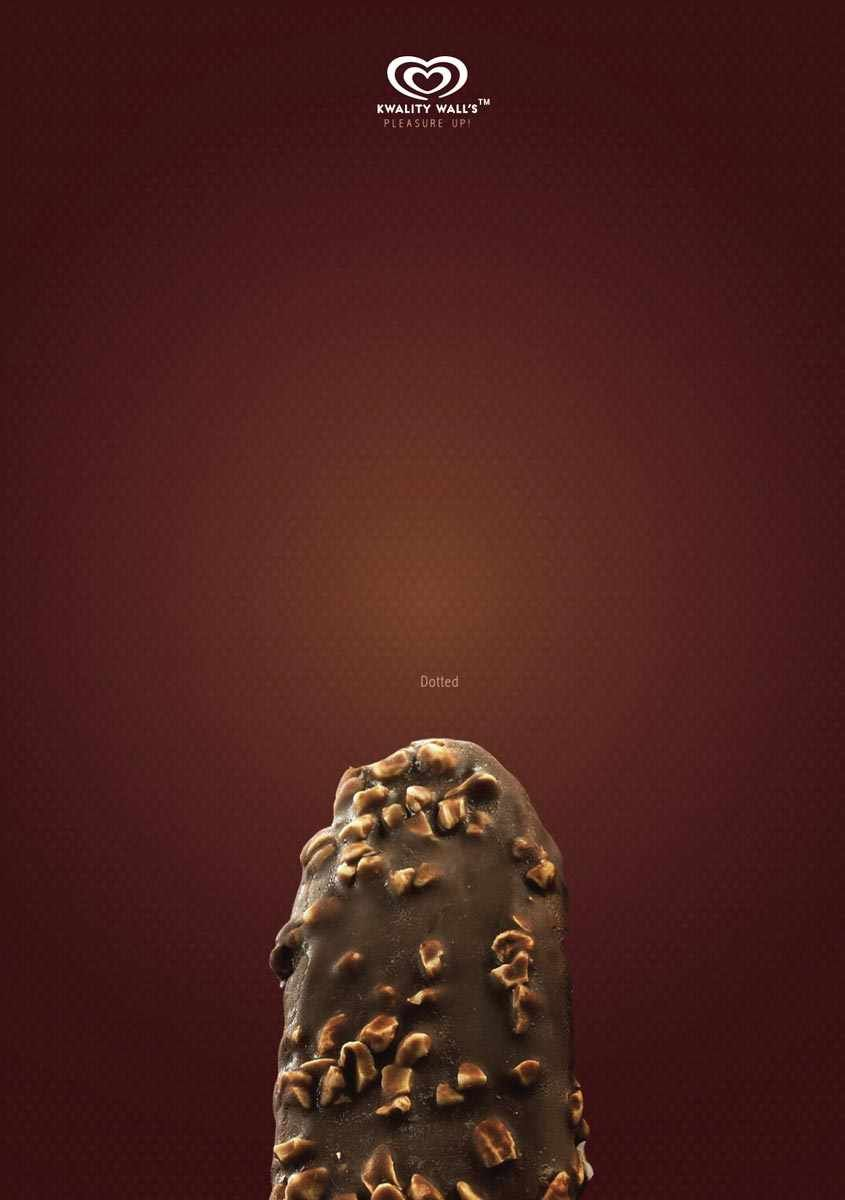Kwality_Walls: (371, 41, 497, 116)
